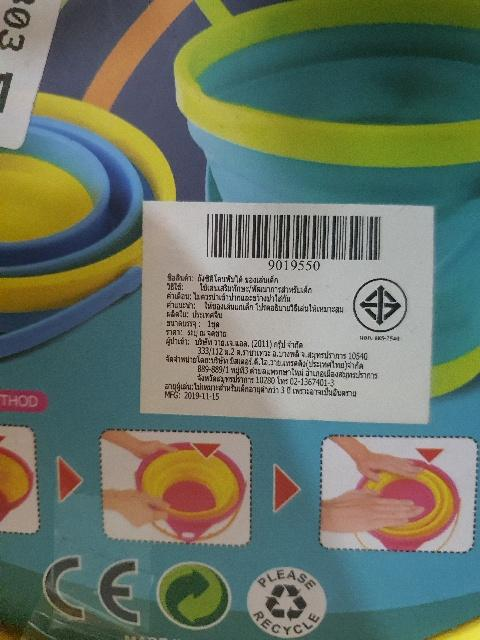Barcode: (194, 209, 393, 272)
